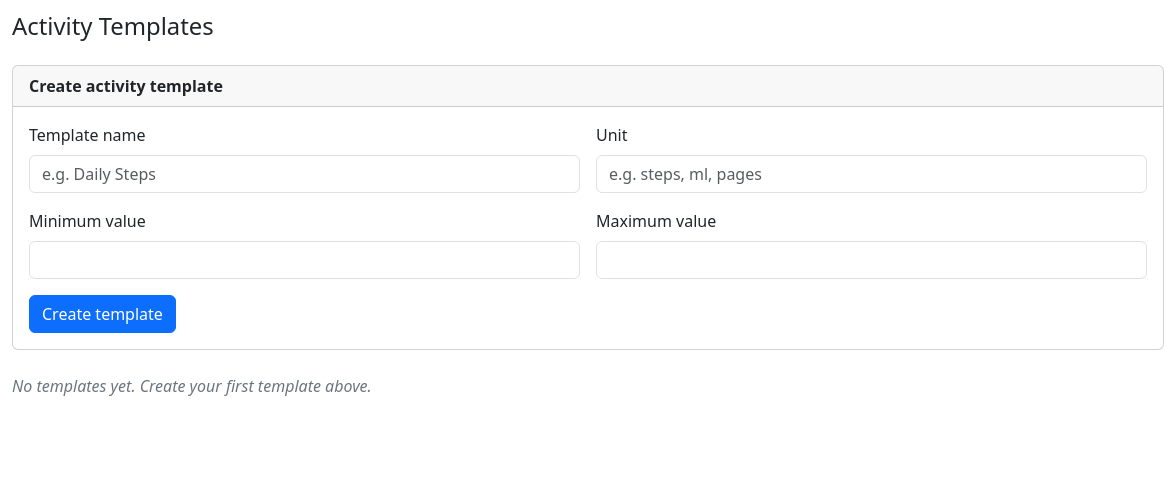
F-02 Activity Template UI › TEST-UI-L6-86: negative minimum (F-02 v1.2) › the minimum input has min=0 and a negative minimum shows the error without calling the server
Check: the text "No templates yet. Create your first template above." is shown, box [12, 375, 372, 397]
Step 1. Type "Negative Range" into the field labelled "Template name" → (304, 174), box [29, 155, 580, 193]
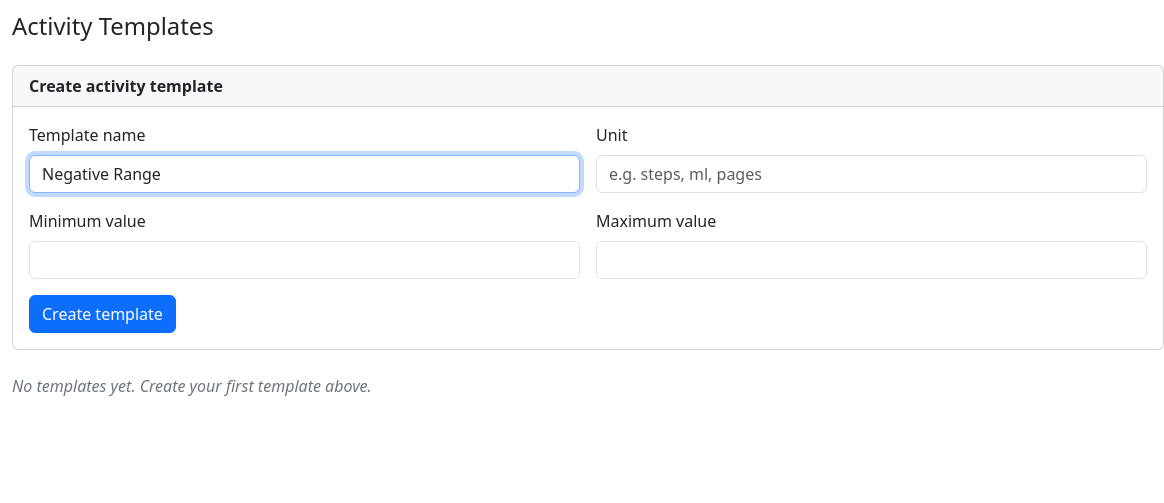
Step 2. Type "min" into the field labelled "Unit" → (872, 174), box [596, 155, 1147, 193]
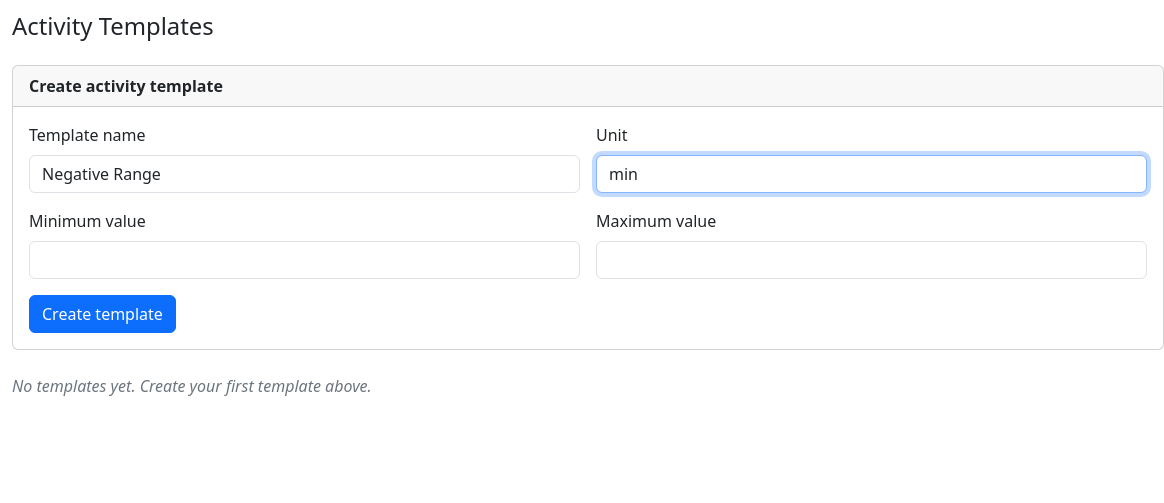
Step 3. Type "-10" into the number field labelled "Minimum value" → (304, 260), box [29, 241, 580, 279]
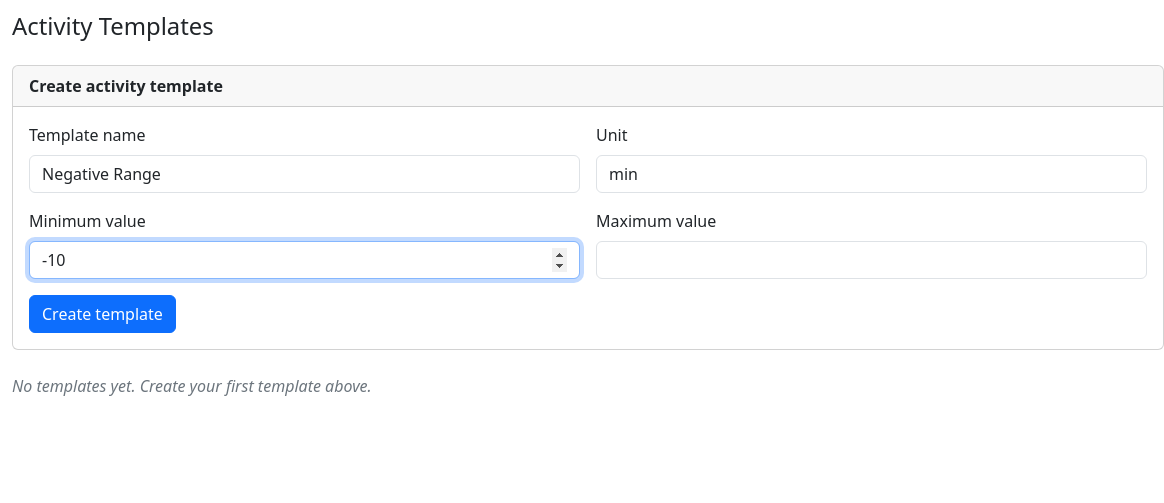
Step 4. Type "0" into the number field labelled "Maximum value" → (872, 260), box [596, 241, 1147, 279]
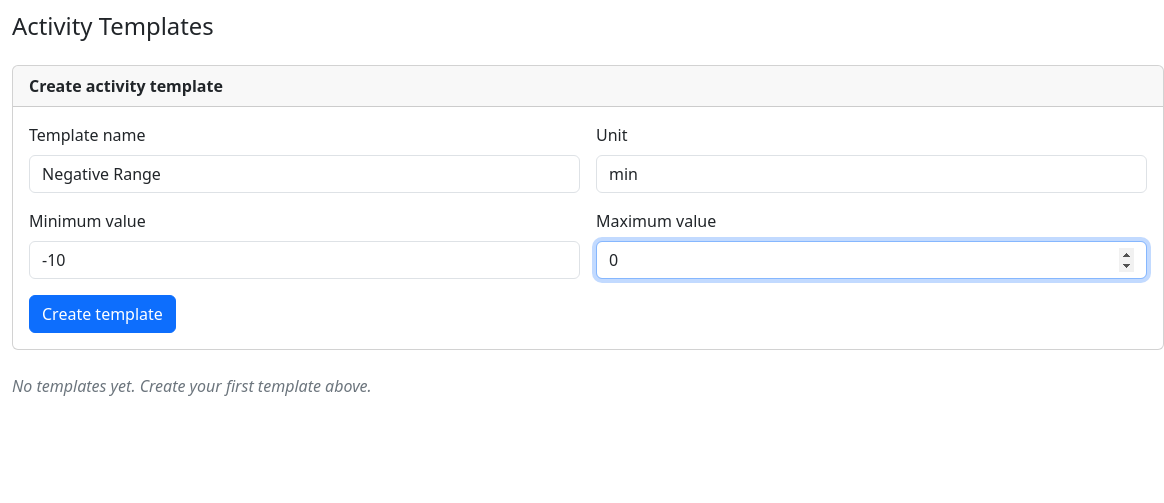
Step 5. Submit the form "Create template", box [29, 107, 1147, 333]
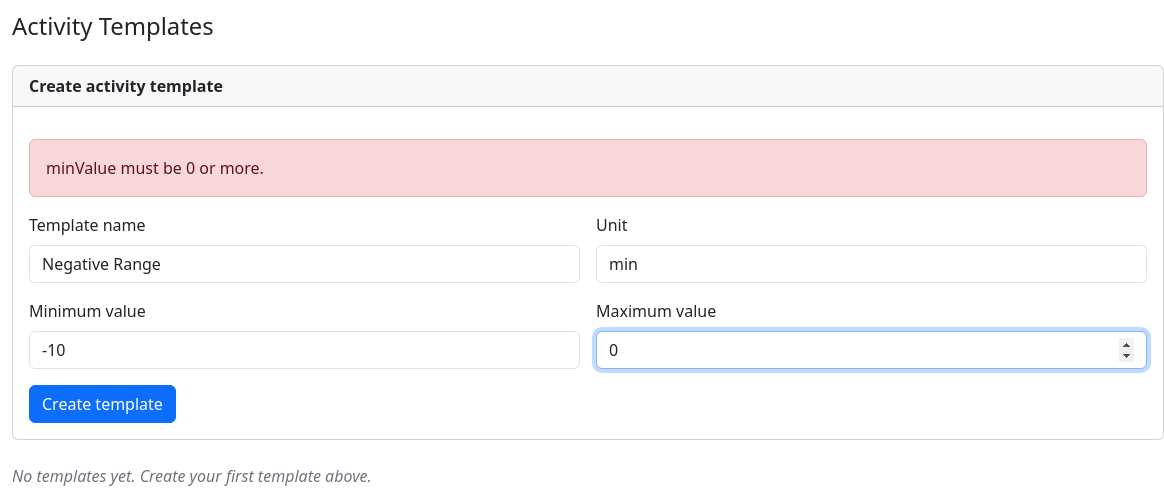
Check: the message reads "minValue must be 0 or more.", box [46, 157, 264, 179]
